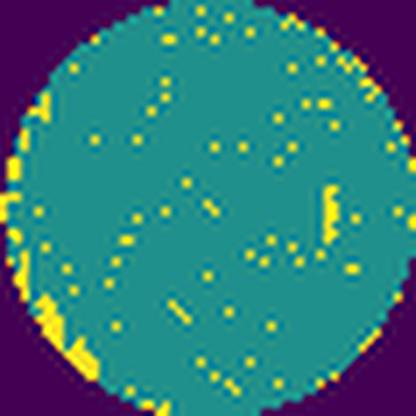Edge-Loc: (36, 290, 101, 378), (12, 244, 34, 309)
